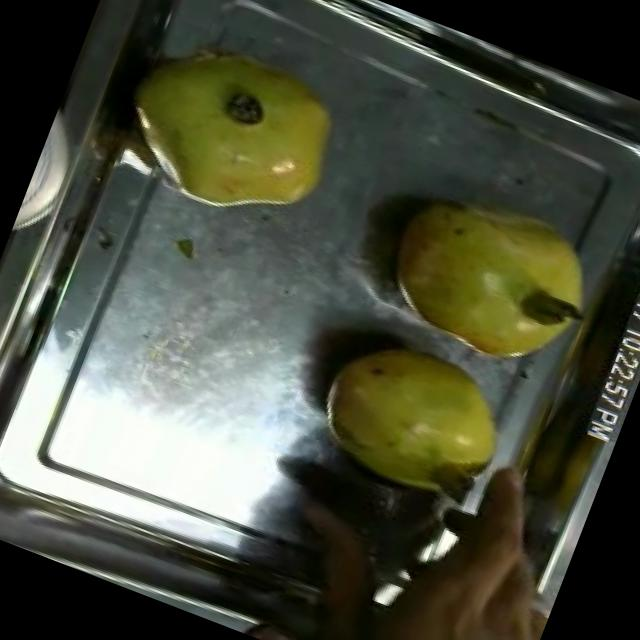fruit: (97, 4, 373, 256), (362, 158, 628, 400), (290, 312, 536, 526), (224, 601, 340, 640)
